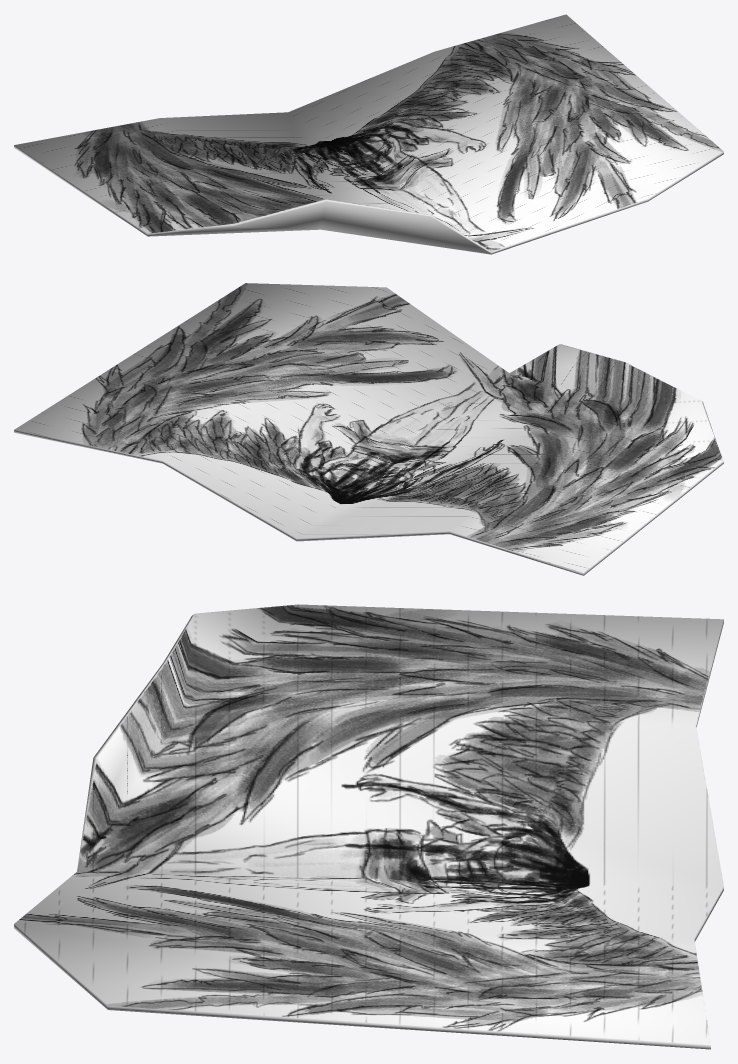
Rendered from Dibujo 3.fbx.
3 views of the same model, one above another, from view 1: azimuth 30°, elevation 25°; view 2: azimuth 150°, elevation 25°; view 3: azimuth 270°, elevation 25° (orthographic). The views are drawn at different scales.
Visible parts, largest first — view 1: Papel 3; view 2: Papel 3; view 3: Papel 3.
Part boxes in pixels (bbox=[...]): Papel 3: bbox=[14, 14, 723, 254]; Papel 3: bbox=[14, 283, 723, 575]; Papel 3: bbox=[14, 604, 723, 1049].
Size of the model in its own units: 14.92 by 2.01 by 10.51.
1 material, 1 textured.
